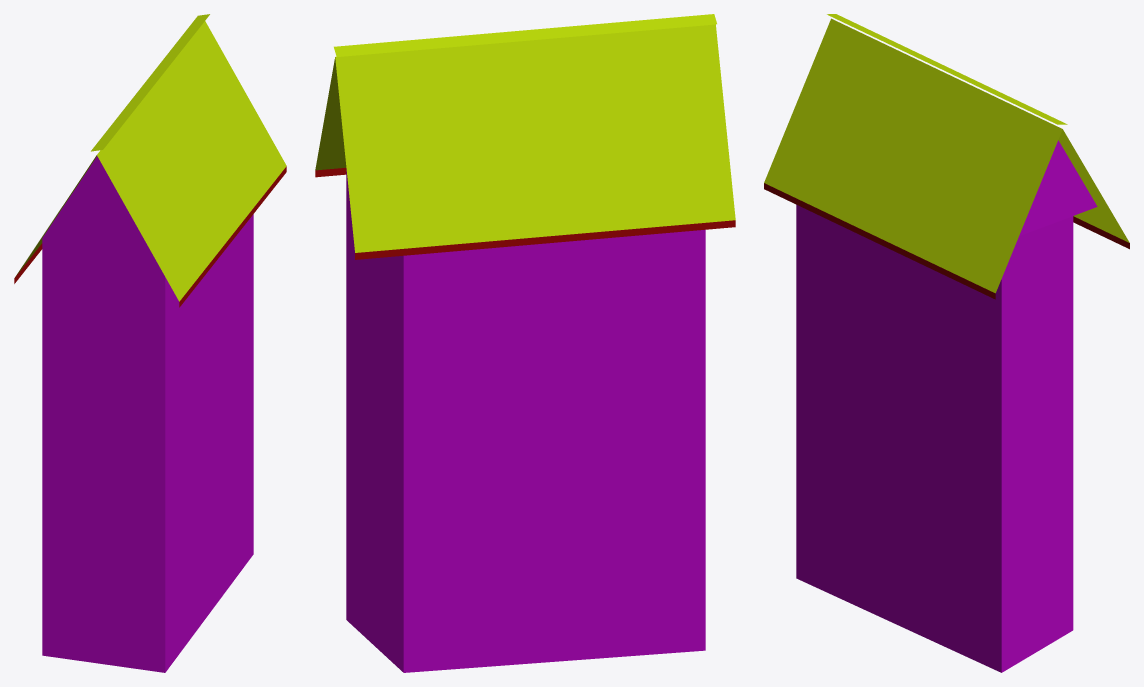
The picture shows the model from 3 angles, left to right: view 1: azimuth 30°, elevation 25°; view 2: azimuth 150°, elevation 25°; view 3: azimuth 270°, elevation 25°; orthographic projection. The views are drawn at different scales.
Parts seen in each view (by area): view 1: sc_120; view 2: sc_120; view 3: sc_120.
Part boxes in pixels (x1,y1,x2,y2): sc_120: (14, 14, 286, 672); sc_120: (315, 14, 735, 672); sc_120: (764, 14, 1129, 672).
Size of the model in its own units: 6.65 by 10.41 by 6.39.
